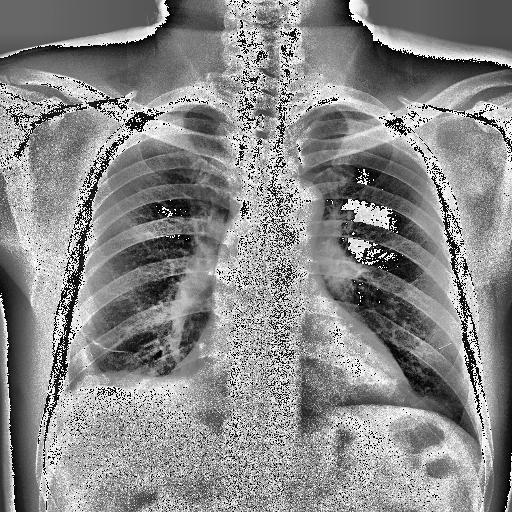0- Aortic enlargement: (263, 174, 327, 228), (270, 176, 326, 228)
10- Pleural effusion: (58, 366, 168, 440), (56, 370, 70, 412)
11- Pleural thickening: (79, 370, 173, 392), (56, 370, 70, 412)
13- Pulmonary fibrosis: (82, 327, 136, 357), (78, 328, 136, 355), (80, 330, 136, 354)
3- Cardiomegaly: (170, 348, 416, 430), (194, 350, 418, 417)
4- Consolidation: (71, 350, 238, 424)
7- Lung Opacity: (79, 370, 173, 392), (73, 374, 148, 388)
9- Other lesion: (71, 350, 238, 424)
